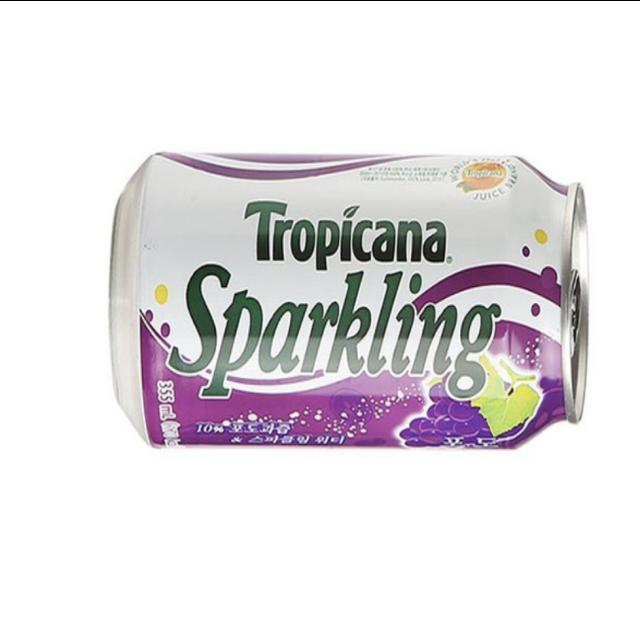can: (81, 99, 624, 514)
